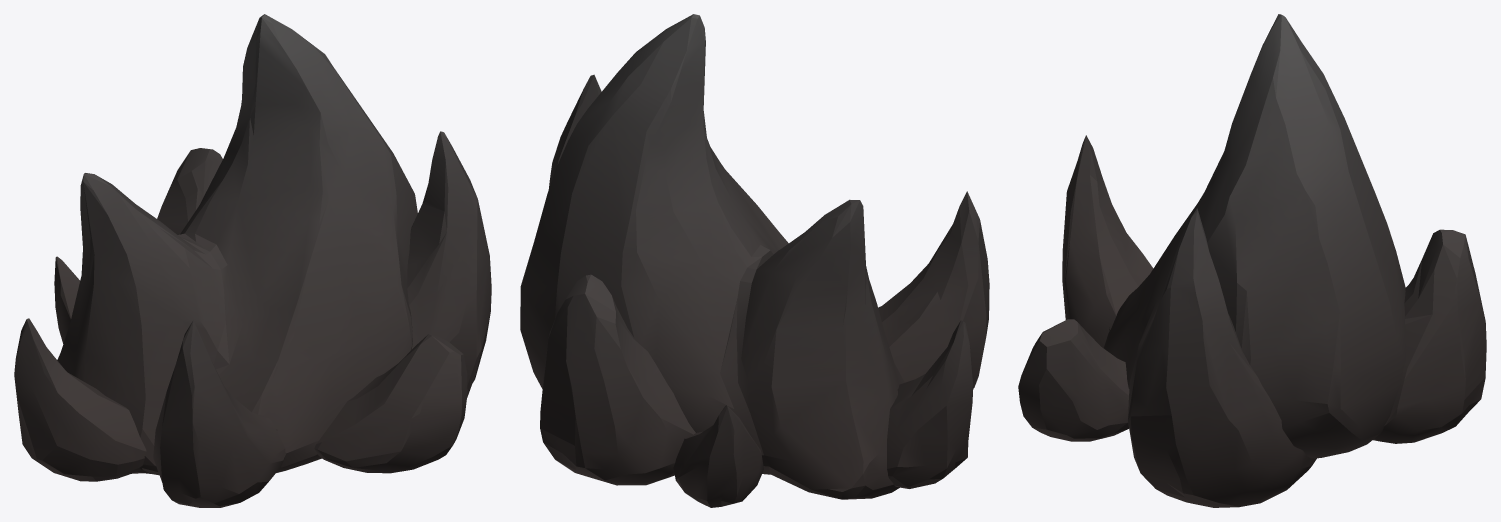
Rendered from inferno-crag-001.glb.
The picture shows the model from 3 angles, left to right: view 1: azimuth 30°, elevation 25°; view 2: azimuth 150°, elevation 25°; view 3: azimuth 270°, elevation 25°; orthographic projection. The views are drawn at different scales.
Visible parts, largest first — view 1: Crag_001; view 2: Crag_001; view 3: Crag_001.
Boxes of the visible parts, left/top/right/bottom form: Crag_001: left=14, top=14, right=491, bottom=507; Crag_001: left=520, top=14, right=989, bottom=507; Crag_001: left=1018, top=14, right=1486, bottom=507.
Size of the model in its own units: 10.18 by 9.61 by 9.19.
1 material, 1 textured.
